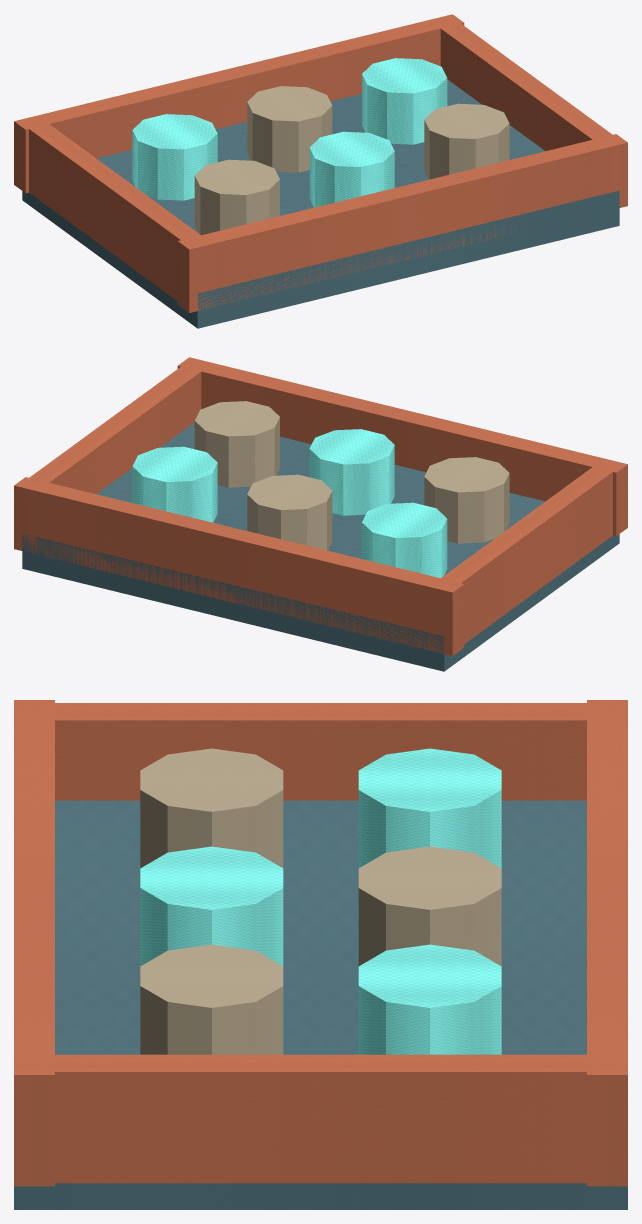
Rendered from atlas100-s048-a04.glb.
The picture shows the model from 3 angles, top to bottom: view 1: azimuth 30°, elevation 25°; view 2: azimuth 150°, elevation 25°; view 3: azimuth 270°, elevation 25°; orthographic projection. The views are drawn at different scales.
Visible parts, largest first — view 1: atlas100-s048-a04:part-002, atlas100-s048-a04:part-000, atlas100-s048-a04:part-001, atlas100-s048-a04:part-003, atlas100-s048-a04:part-004, atlas100-s048-a04:part-005, atlas100-s048-a04:part-007, atlas100-s048-a04:part-006, atlas100-s048-a04:part-009, atlas100-s048-a04:part-010, atlas100-s048-a04:part-008; view 2: atlas100-s048-a04:part-001, atlas100-s048-a04:part-000, atlas100-s048-a04:part-002, atlas100-s048-a04:part-003, atlas100-s048-a04:part-004, atlas100-s048-a04:part-008, atlas100-s048-a04:part-010, atlas100-s048-a04:part-009, atlas100-s048-a04:part-006, atlas100-s048-a04:part-007, atlas100-s048-a04:part-005; view 3: atlas100-s048-a04:part-000, atlas100-s048-a04:part-004, atlas100-s048-a04:part-003, atlas100-s048-a04:part-001, atlas100-s048-a04:part-002, atlas100-s048-a04:part-007, atlas100-s048-a04:part-010, atlas100-s048-a04:part-005, atlas100-s048-a04:part-008, atlas100-s048-a04:part-006, atlas100-s048-a04:part-009.
Boxes of the visible parts, box(x1,y1,x2,y2) form: atlas100-s048-a04:part-002: box(177, 134, 627, 312); atlas100-s048-a04:part-000: box(22, 79, 619, 328); atlas100-s048-a04:part-001: box(14, 14, 464, 193); atlas100-s048-a04:part-003: box(17, 118, 212, 311); atlas100-s048-a04:part-004: box(430, 15, 624, 207); atlas100-s048-a04:part-005: box(132, 114, 217, 200); atlas100-s048-a04:part-007: box(362, 58, 447, 144); atlas100-s048-a04:part-006: box(247, 86, 332, 172); atlas100-s048-a04:part-009: box(309, 131, 394, 207); atlas100-s048-a04:part-010: box(424, 103, 509, 179); atlas100-s048-a04:part-008: box(194, 159, 279, 235); atlas100-s048-a04:part-001: box(14, 477, 464, 655); atlas100-s048-a04:part-000: box(22, 422, 619, 671); atlas100-s048-a04:part-002: box(177, 357, 627, 536); atlas100-s048-a04:part-003: box(429, 461, 624, 652); atlas100-s048-a04:part-004: box(17, 358, 211, 554); atlas100-s048-a04:part-008: box(424, 457, 509, 543); atlas100-s048-a04:part-010: box(194, 401, 279, 487); atlas100-s048-a04:part-009: box(309, 429, 394, 515); atlas100-s048-a04:part-006: box(247, 474, 332, 550); atlas100-s048-a04:part-007: box(132, 446, 217, 522); atlas100-s048-a04:part-005: box(362, 502, 447, 578); atlas100-s048-a04:part-000: box(14, 800, 627, 1209); atlas100-s048-a04:part-004: box(14, 1054, 627, 1183); atlas100-s048-a04:part-003: box(14, 703, 627, 800); atlas100-s048-a04:part-001: box(587, 700, 627, 1186); atlas100-s048-a04:part-002: box(14, 700, 54, 1186); atlas100-s048-a04:part-007: box(358, 944, 501, 1054); atlas100-s048-a04:part-010: box(140, 944, 283, 1054); atlas100-s048-a04:part-005: box(358, 748, 501, 868); atlas100-s048-a04:part-008: box(140, 748, 283, 868); atlas100-s048-a04:part-006: box(358, 846, 501, 966); atlas100-s048-a04:part-009: box(140, 846, 283, 966).
Size of the model in its own units: 1.39 by 0.2619 by 0.9621.
Materials: 4 (4 with a texture image).
